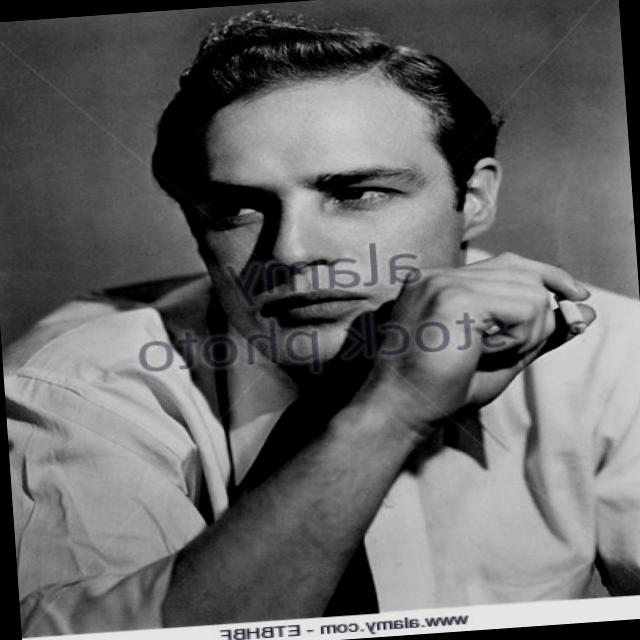cigarette: (554, 298, 588, 333)
